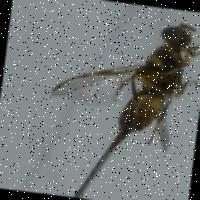Oriental-fruit-fly: (47, 1, 200, 163)
